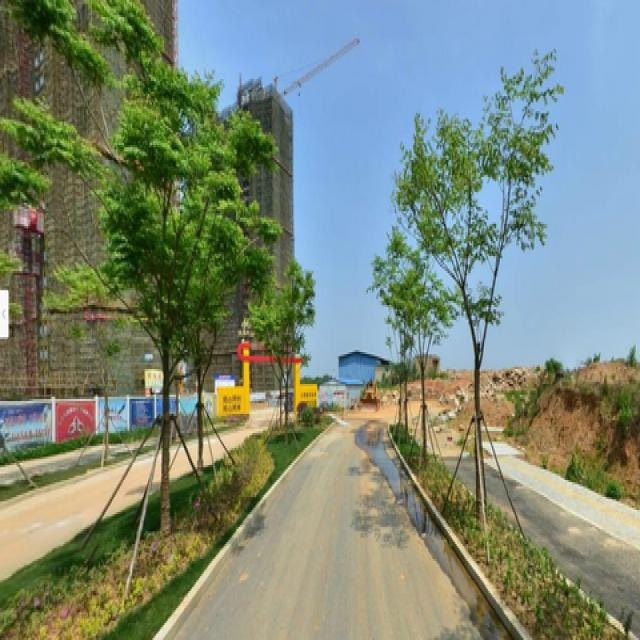koel: (45, 4, 235, 555)
